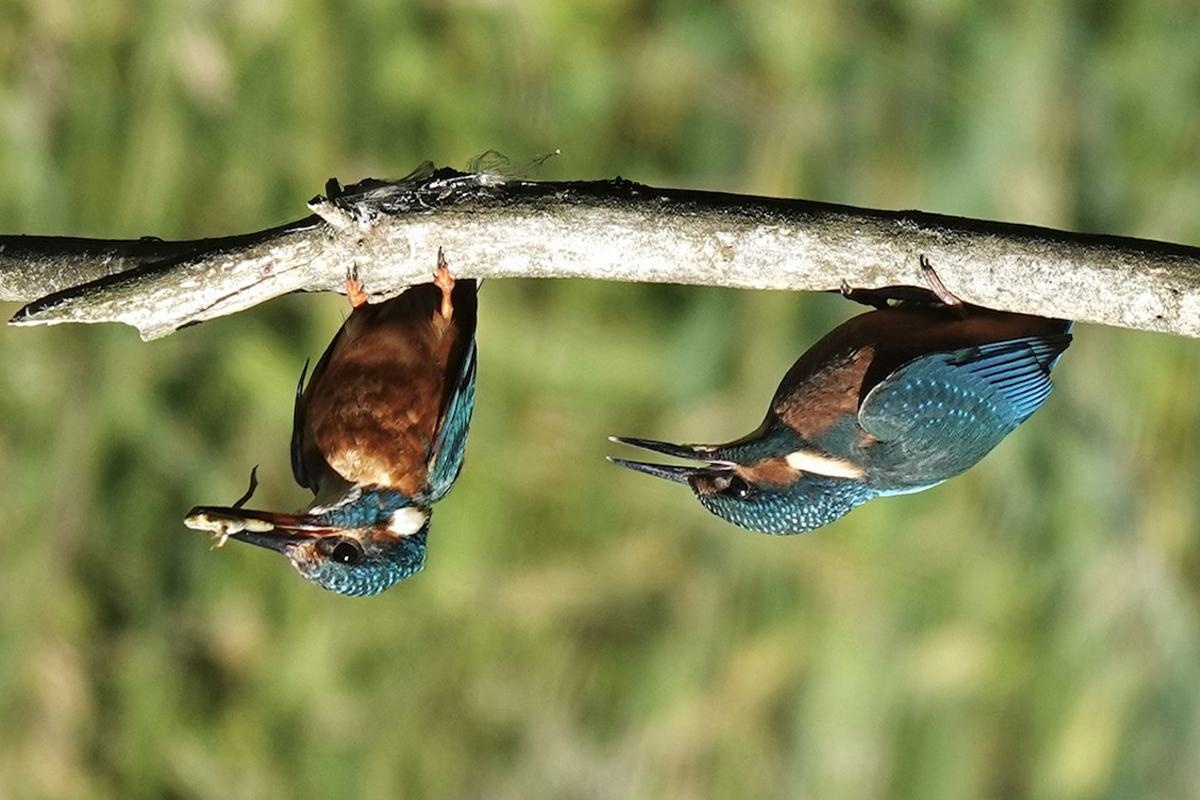kingfisher: (629, 254, 1119, 548), (169, 201, 494, 622)
